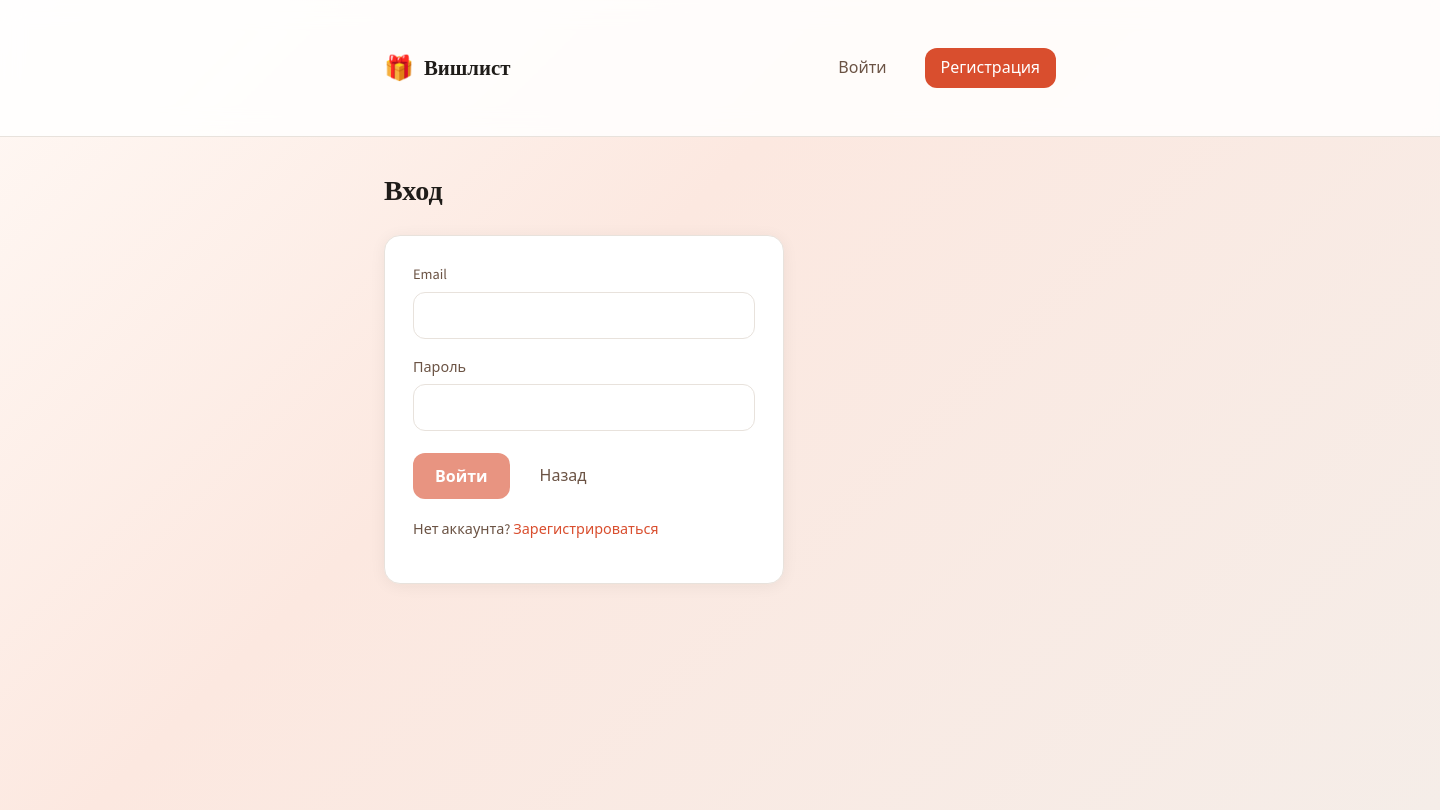
Test case: Login › при ошибке логина показывает сообщение
This screenshot has width=1440, height=810.
Type "test@test.com" into the field labelled "Email". click: [584, 315]
box: x1=413 y1=292 x2=755 y2=339
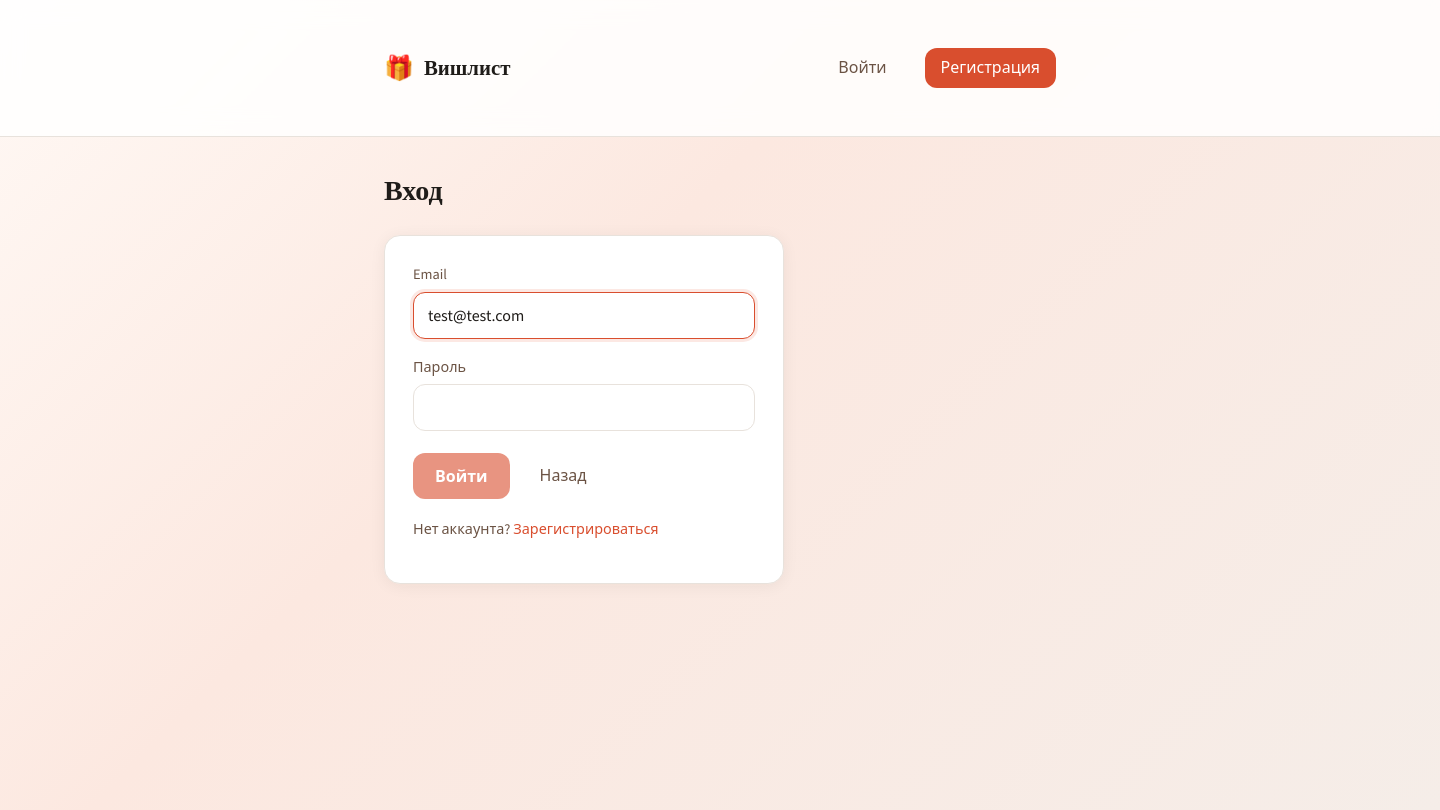
Type "pass" into the password field labelled "Пароль". click: [584, 408]
box: x1=413 y1=384 x2=755 y2=431
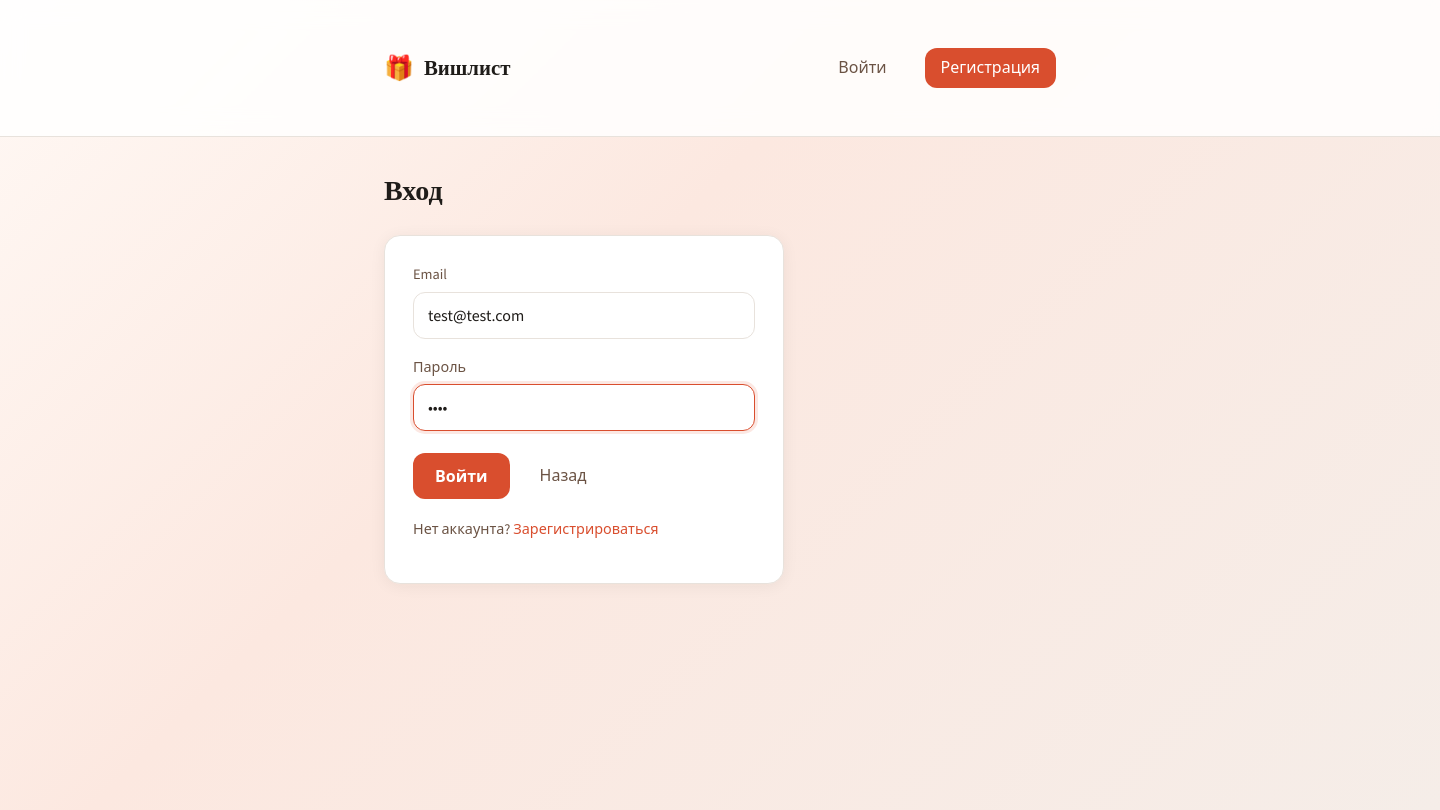
Click the button "Войти". click: [461, 476]
box: x1=413 y1=453 x2=510 y2=499
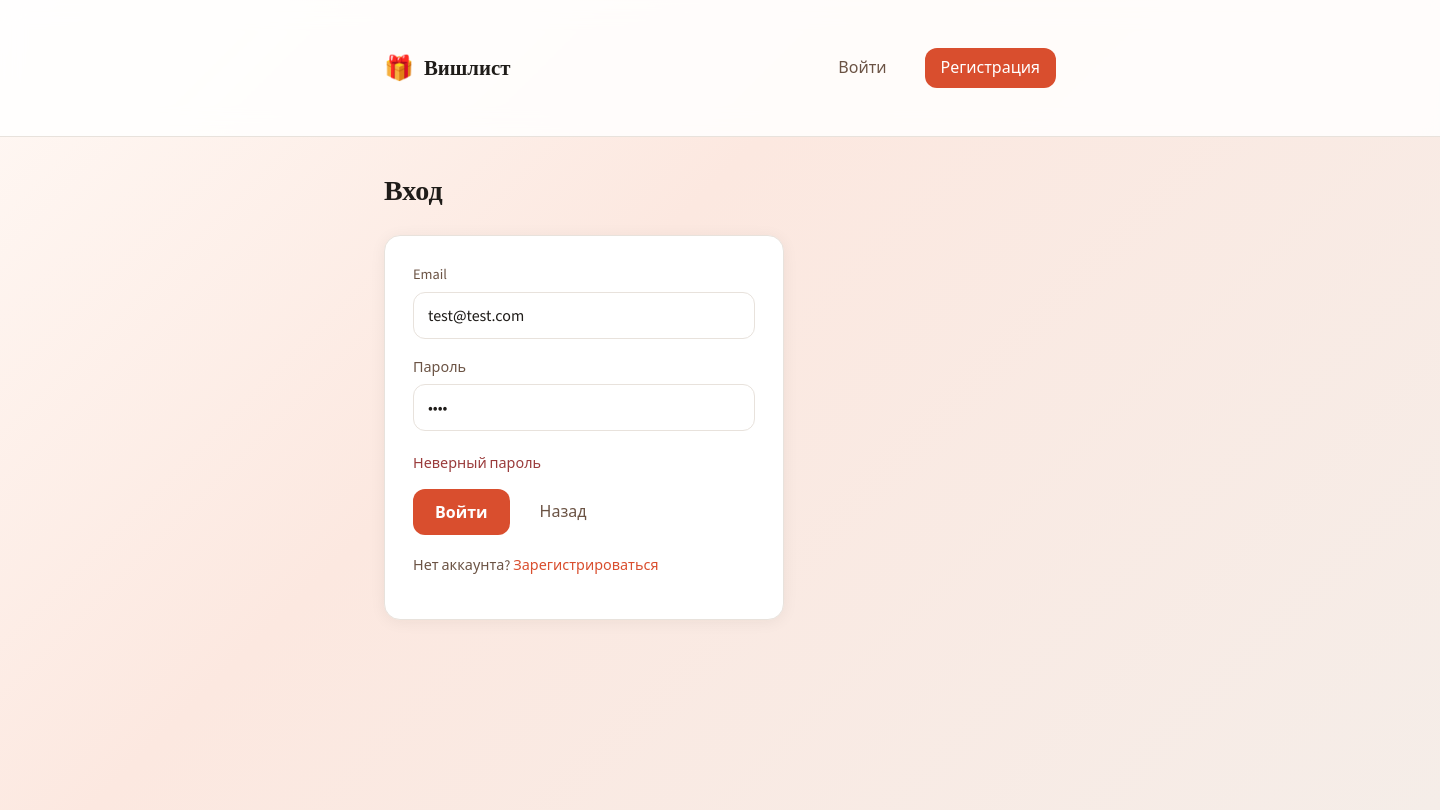
Now the text "Неверный пароль" is shown, box x1=413 y1=454 x2=541 y2=473
